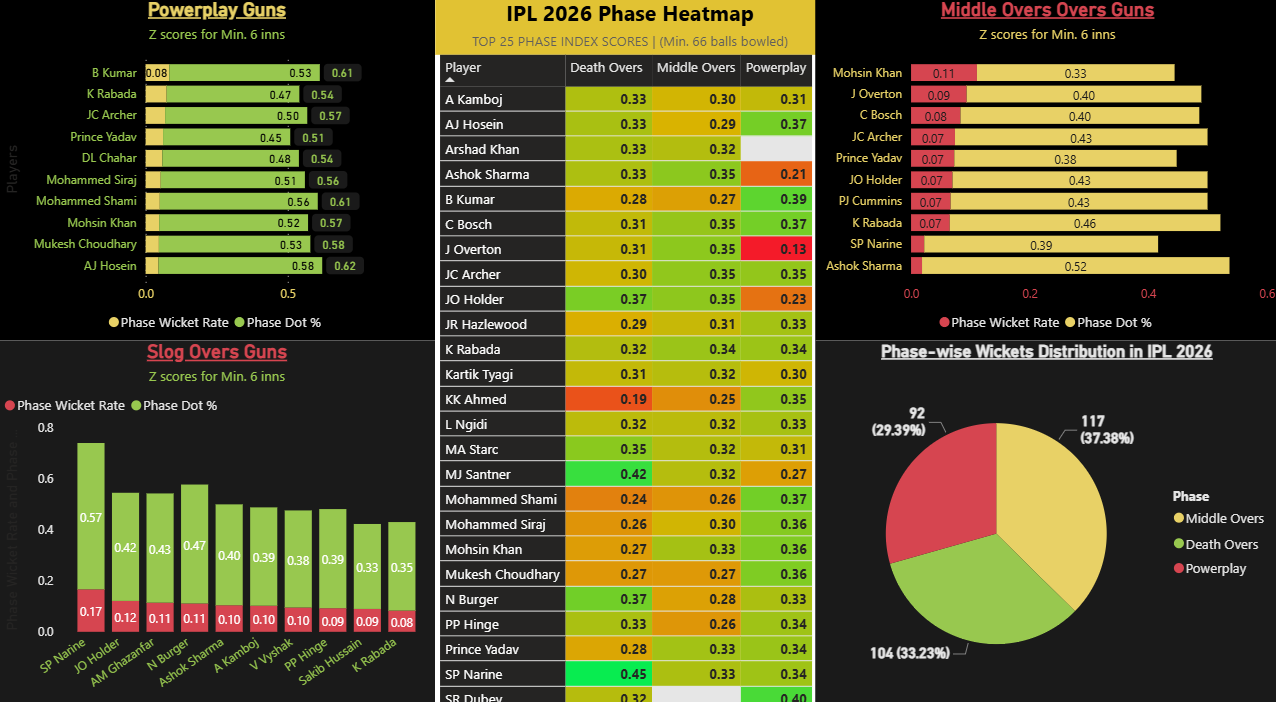

Layout of this report page (visuals, bound fields, positions):
{"tool":"powerbi","page":{"name":"Phase Analytics","canvas":[1280,720],"ordinal":2},"visuals":[{"type":"pivotTable","title":"IPL 2026 Phase Heatmap","fields":{"Values":["Phase_Bowling.Phase Impact"],"Columns":["Phase_Bowling.Phase"],"Rows":["Phase_Bowling.Player"]},"box":[436.4,0,389.9,720],"z":0},{"type":"barChart","title":"Powerplay Guns","fields":{"Category":["Phase_Bowling.Player"],"Y":["Phase_Bowling.Phase Wicket Rate","Phase_Bowling.Phase Dot %"]},"box":[0,0,436,342.8],"z":1000},{"type":"barChart","title":"Middle Overs Overs Guns","fields":{"Category":["Phase_Bowling.Player"],"Y":["Phase_Bowling.Phase Wicket Rate","Phase_Bowling.Phase Dot %"]},"box":[815.8,0,464.8,342.8],"z":2000},{"type":"columnChart","title":"Slog Overs Guns","fields":{"Category":["Phase_Bowling.Player"],"Y":["Phase_Bowling.Phase Wicket Rate","Phase_Bowling.Phase Dot %"]},"box":[0,342.8,436,367.4],"z":3000},{"type":"pieChart","title":"Phase-wise Wickets Distribution in IPL 2026 ","fields":{"Y":["CountNonNull(Phase_Bowling.W)"],"Category":["Phase_Bowling.Phase"]},"box":[815.8,342.8,463.4,367.4],"z":4000}]}

Visuals, with their boxes in screenshot pixels (x1, y1, x2, y2), scaled from the page's 1280x720 canvas onto the 1276x702 screenshot:
"IPL 2026 Phase Heatmap" pivotTable: (left=435, top=0, right=824, bottom=701)
"Powerplay Guns" barChart: (left=0, top=0, right=435, bottom=334)
"Middle Overs Overs Guns" barChart: (left=813, top=0, right=1275, bottom=334)
"Slog Overs Guns" columnChart: (left=0, top=334, right=435, bottom=692)
"Phase-wise Wickets Distribution in IPL 2026 " pieChart: (left=813, top=334, right=1275, bottom=692)
